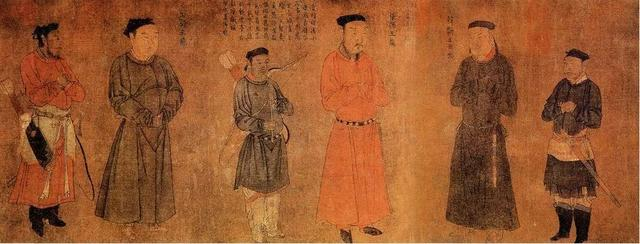man: (5, 14, 99, 241), (103, 13, 190, 240), (315, 15, 400, 244), (442, 15, 522, 244), (224, 41, 301, 239), (540, 46, 600, 244)
weapon: (209, 54, 303, 167), (544, 109, 620, 208), (1, 81, 59, 171), (69, 117, 104, 209), (217, 48, 244, 84)
